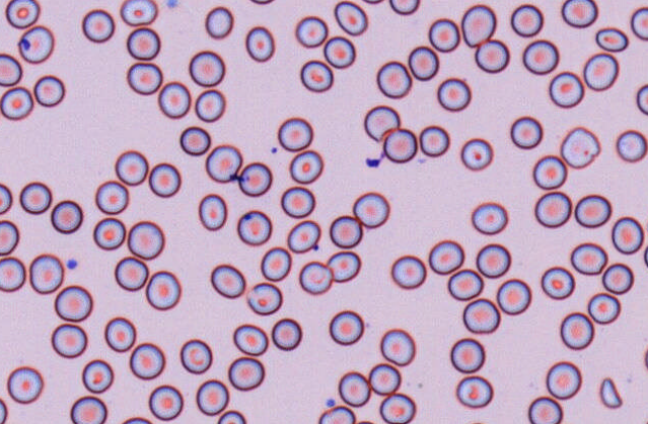PLT: (365, 154, 383, 169), (66, 259, 78, 270), (164, 0, 179, 8)
RBC: (460, 3, 496, 47), (28, 253, 64, 294), (54, 284, 92, 322), (6, 365, 43, 404), (127, 220, 164, 259), (145, 270, 181, 310), (17, 25, 54, 63), (205, 144, 242, 182), (534, 191, 572, 228), (352, 191, 390, 228), (545, 360, 581, 399), (583, 52, 619, 91), (188, 50, 225, 87), (379, 328, 415, 366), (462, 298, 500, 334), (129, 342, 165, 380), (559, 311, 594, 350), (548, 71, 584, 108), (522, 39, 559, 75), (376, 60, 411, 98), (328, 309, 364, 345), (236, 209, 272, 245), (50, 323, 87, 358), (227, 356, 264, 391), (496, 278, 531, 315), (157, 80, 191, 118), (450, 337, 485, 373), (148, 384, 183, 420), (382, 127, 417, 163), (532, 154, 567, 190), (428, 239, 464, 274), (390, 254, 426, 289), (277, 116, 313, 151), (471, 201, 508, 235), (574, 194, 611, 228), (455, 375, 493, 408), (611, 216, 644, 254), (474, 38, 509, 73), (475, 243, 510, 278), (210, 263, 245, 298), (195, 379, 229, 415), (333, 0, 367, 36), (126, 61, 162, 95), (114, 149, 148, 185), (246, 281, 282, 315), (337, 370, 370, 407), (570, 242, 607, 275), (114, 256, 148, 291), (81, 8, 115, 43), (238, 161, 272, 196), (540, 266, 575, 300), (436, 77, 471, 111), (289, 149, 323, 184), (286, 219, 321, 253), (232, 323, 268, 356), (179, 338, 212, 374), (298, 260, 332, 294), (94, 180, 128, 214), (81, 358, 114, 393), (280, 185, 315, 218), (148, 162, 181, 197), (447, 268, 483, 300), (104, 316, 136, 352), (244, 25, 275, 62), (0, 86, 33, 120), (329, 214, 362, 248), (510, 3, 543, 37), (299, 59, 333, 92), (126, 27, 160, 60), (50, 199, 83, 233), (294, 15, 328, 48), (460, 137, 493, 171), (509, 115, 542, 149), (326, 250, 361, 282), (407, 45, 439, 80), (428, 17, 460, 52), (379, 392, 415, 423), (368, 362, 401, 395), (19, 181, 52, 214), (92, 217, 125, 250), (587, 292, 621, 324), (260, 246, 291, 281), (198, 193, 227, 230), (601, 262, 634, 294), (418, 124, 450, 157), (615, 129, 647, 162), (33, 74, 65, 107), (323, 35, 355, 68), (194, 88, 225, 122), (70, 395, 107, 423), (561, 0, 598, 28), (271, 317, 302, 350), (5, 0, 40, 29), (119, 0, 157, 26), (204, 5, 233, 39), (527, 395, 562, 423), (0, 256, 26, 292), (179, 125, 210, 155), (595, 26, 628, 52), (0, 52, 22, 86), (0, 219, 19, 255), (318, 405, 355, 423), (630, 6, 647, 40), (388, 0, 420, 15), (217, 409, 246, 423), (0, 182, 12, 214), (636, 83, 647, 115), (121, 416, 152, 423), (0, 397, 8, 423), (643, 344, 648, 370), (643, 243, 648, 267)
Schistocyte: (561, 127, 601, 169), (364, 105, 401, 141), (600, 375, 624, 411)
